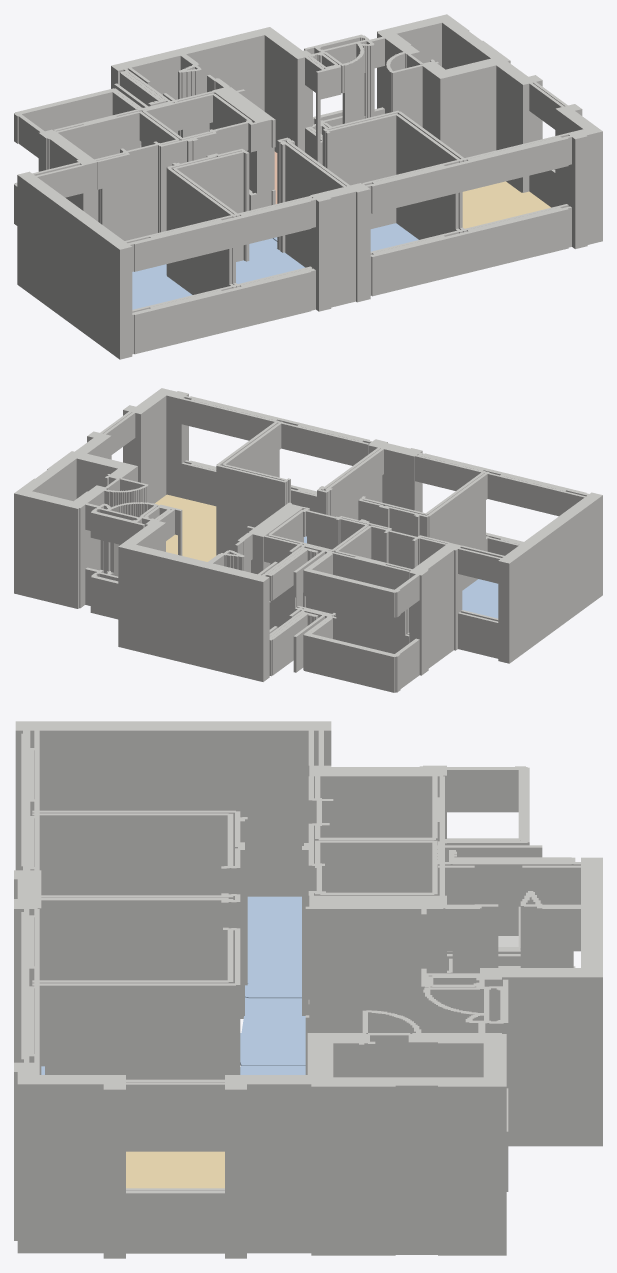
3 views of the same model, one above another, from view 1: azimuth 30°, elevation 25°; view 2: azimuth 150°, elevation 25°; view 3: azimuth 270°, elevation 25° (orthographic). The views are drawn at different scales.
Parts seen in each view (by area): view 1: walls, room:living:9, room:bedroom:7, room:bedroom:6, room:bedroom:8; view 2: walls, room:living:9, room:bedroom:6; view 3: walls, room:bedroom:6, room:bedroom:7, room:living:9.
Boxes of the visible parts, box(x1,y1,x2,y2) form: walls: box(14, 14, 602, 359); room:living:9: box(462, 181, 550, 228); room:bedroom:7: box(236, 238, 304, 283); room:bedroom:6: box(132, 264, 192, 309); room:bedroom:8: box(273, 223, 418, 251); walls: box(14, 388, 602, 692); room:living:9: box(155, 494, 216, 561); room:bedroom:6: box(462, 579, 498, 618); walls: box(14, 721, 602, 1258); room:bedroom:6: box(245, 896, 301, 998); room:bedroom:7: box(240, 997, 305, 1065); room:living:9: box(126, 1151, 224, 1188).
Size of the model in its own units: 13.09 by 2.8 by 8.84.
